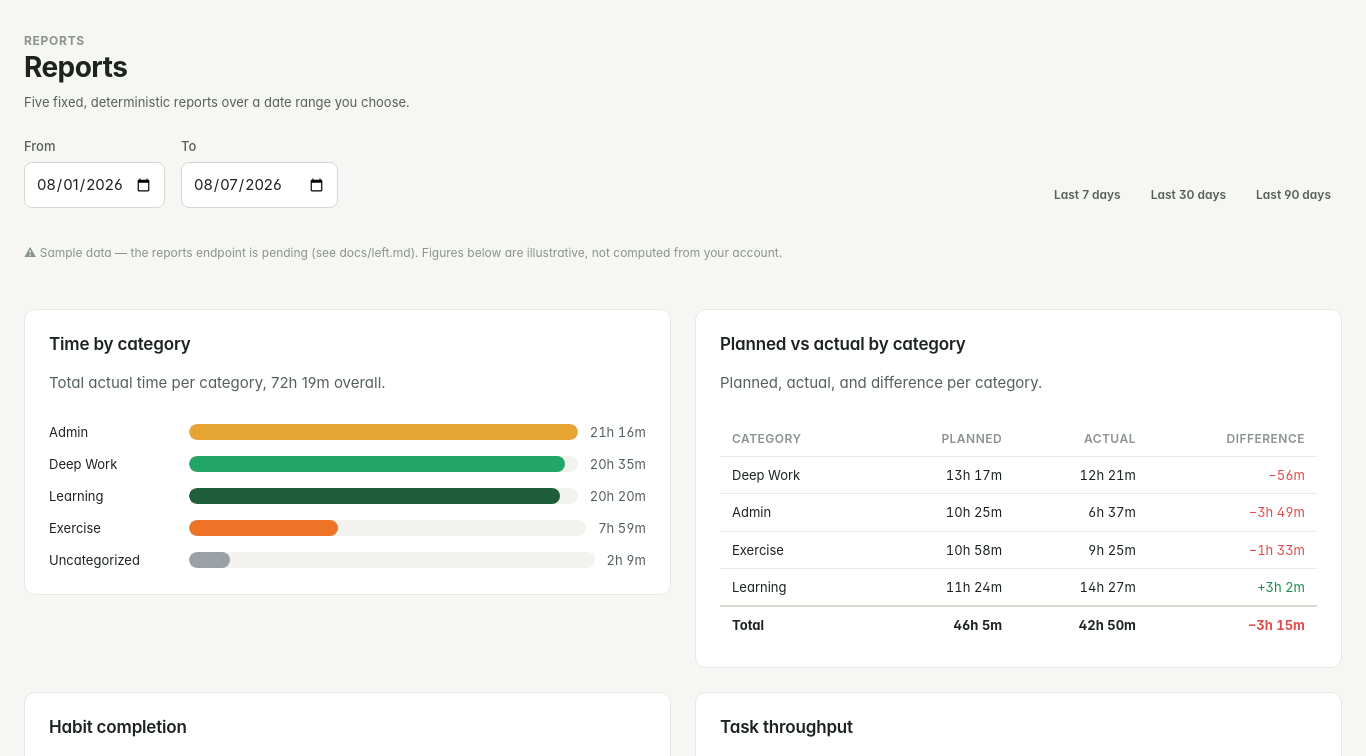
Test: ReportsScreen › updates the reports when a preset range is chosen
Click the button "Last 7 days" at [1087, 195], box [1043, 182, 1132, 208]
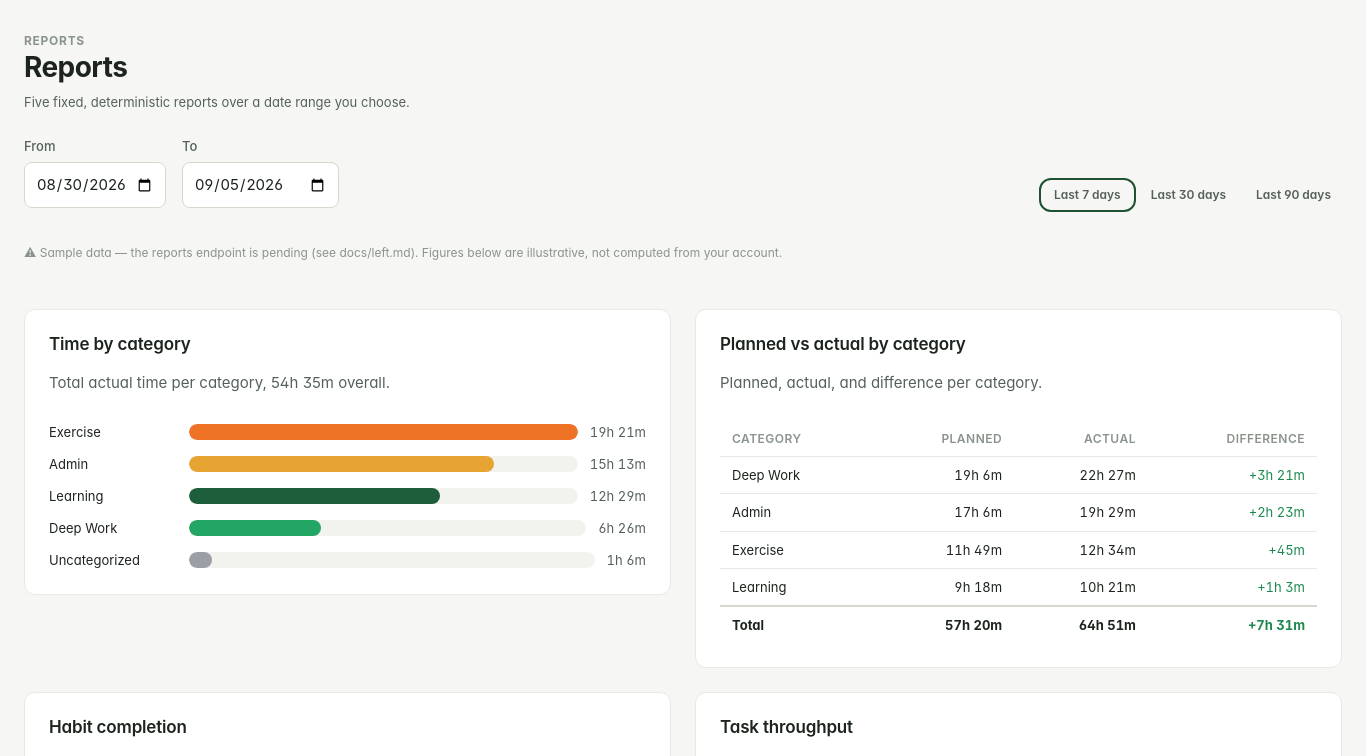
Now the date field labelled "From" does not hold "2026-08-01", box [24, 162, 166, 208]
